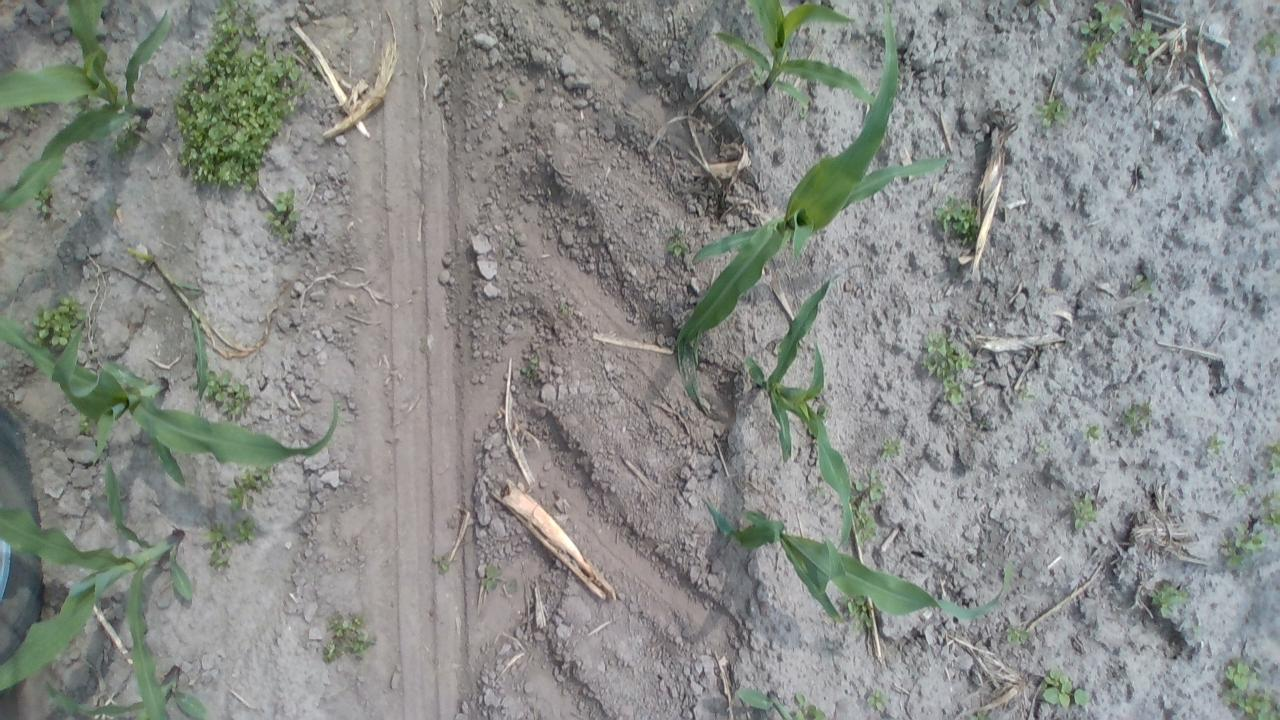Maize: (672, 0, 962, 423), (4, 314, 347, 486), (692, 489, 1034, 653), (0, 462, 201, 720), (0, 0, 174, 217), (740, 256, 860, 556), (709, 0, 888, 114), (35, 663, 209, 720), (724, 681, 828, 720)
Weeds: (165, 0, 325, 197), (911, 326, 979, 406), (1069, 0, 1133, 71), (846, 464, 890, 554), (1220, 657, 1280, 720), (32, 292, 90, 351), (318, 608, 376, 665), (206, 516, 260, 575), (198, 366, 256, 420), (1034, 664, 1096, 712), (930, 192, 986, 241), (224, 463, 278, 513), (1214, 516, 1260, 574), (263, 189, 307, 244), (1147, 578, 1192, 624), (474, 562, 520, 600), (1128, 19, 1162, 70), (1118, 398, 1158, 437), (844, 590, 879, 634), (1001, 618, 1039, 656), (876, 434, 914, 470), (1034, 91, 1068, 130), (792, 690, 834, 720), (1255, 490, 1280, 540), (110, 118, 142, 156), (1068, 494, 1098, 534), (864, 682, 899, 716), (1250, 26, 1280, 62), (29, 183, 59, 219), (661, 224, 690, 261), (1258, 435, 1280, 483), (1127, 269, 1160, 299), (1078, 420, 1110, 449), (521, 349, 548, 383), (1027, 432, 1056, 458), (1204, 428, 1227, 458), (75, 412, 101, 438), (962, 705, 1006, 720), (1230, 476, 1252, 502), (432, 551, 454, 574), (1026, 0, 1056, 16), (554, 302, 574, 324), (1016, 386, 1038, 404), (817, 400, 836, 418)
